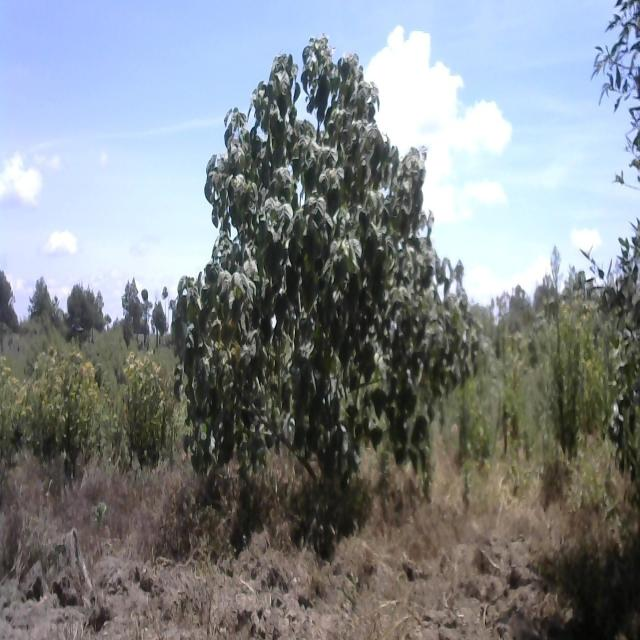Croton machrostychus: (181, 33, 488, 490)
Juniperus procesera: (120, 269, 142, 342), (24, 271, 55, 317), (65, 276, 85, 332)
